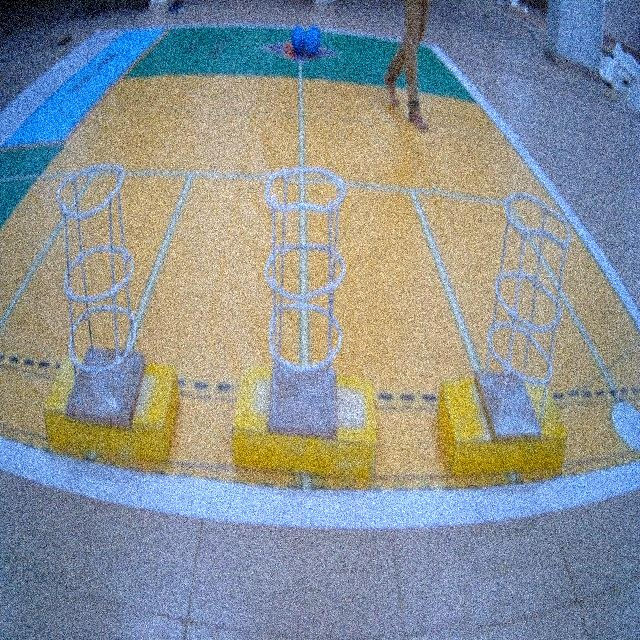silo: (474, 166, 580, 454), (51, 150, 152, 440), (258, 150, 350, 442)
